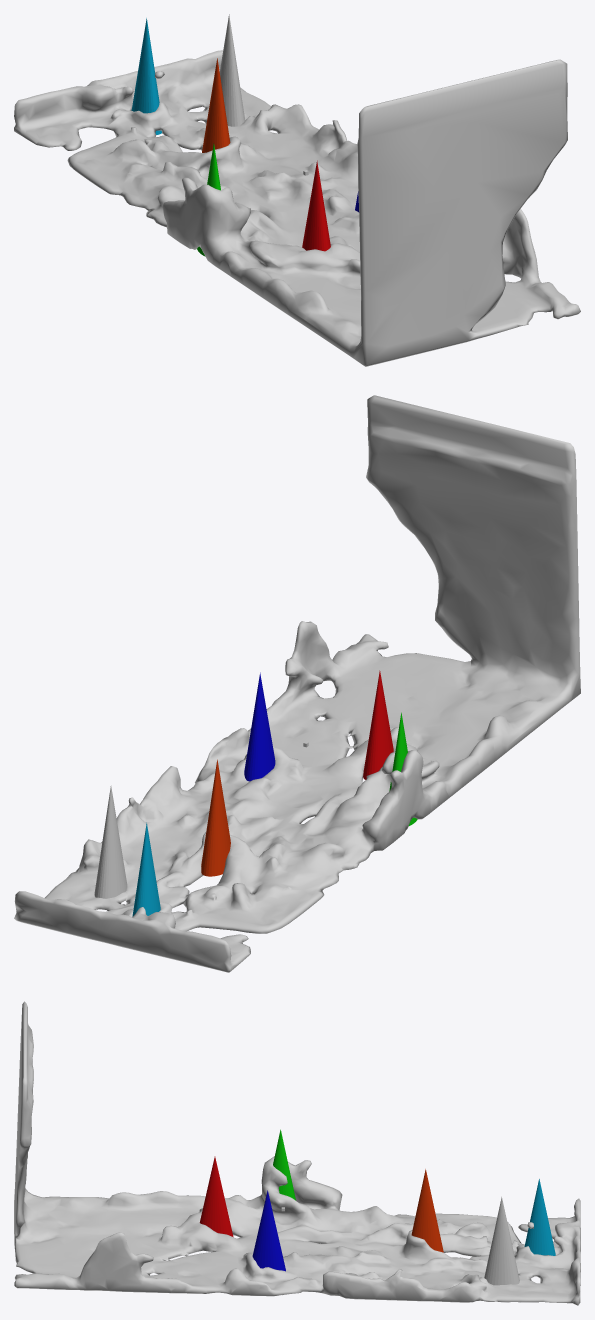
3 renders of one model, top to bottom at view 1: azimuth 30°, elevation 25°; view 2: azimuth 150°, elevation 25°; view 3: azimuth 270°, elevation 25°, orthographic. The views are drawn at different scales.
Parts seen in each view (by area): view 1: Liquid_Domain, 円錐, 円錐.005, 円錐.001, 円錐.004; view 2: Liquid_Domain, 円錐, 円錐.004, 円錐.002, 円錐.001, 円錐.005; view 3: Liquid_Domain, 円錐, 円錐.002, 円錐.001, 円錐.004, 円錐.005, 円錐.003.
Part boxes in pixels (box(x1,y1,x2,y2)): Liquid_Domain: box(14, 50, 580, 366); 円錐: box(219, 14, 245, 126); 円錐.005: box(131, 18, 161, 134); 円錐.001: box(302, 160, 330, 251); 円錐.004: box(202, 58, 230, 152); Liquid_Domain: box(14, 395, 580, 972); 円錐: box(94, 785, 127, 898); 円錐.004: box(201, 759, 230, 876); 円錐.002: box(244, 672, 275, 781); 円錐.001: box(363, 670, 393, 779); 円錐.005: box(132, 822, 160, 916); Liquid_Domain: box(14, 1001, 580, 1305); 円錐: box(484, 1196, 519, 1285); 円錐.002: box(252, 1190, 285, 1271); 円錐.001: box(199, 1156, 233, 1236); 円錐.004: box(411, 1169, 443, 1252); 円錐.005: box(524, 1179, 555, 1255); 円錐.003: box(273, 1129, 295, 1200).
Size of the model in its own units: 129 by 157 by 361.
